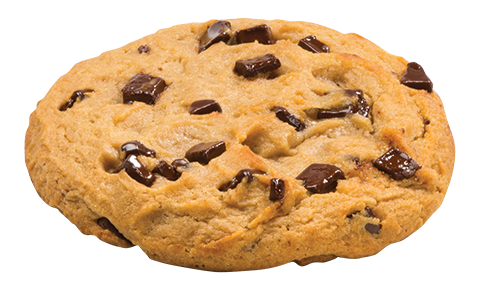cookie: (18, 12, 461, 278)
